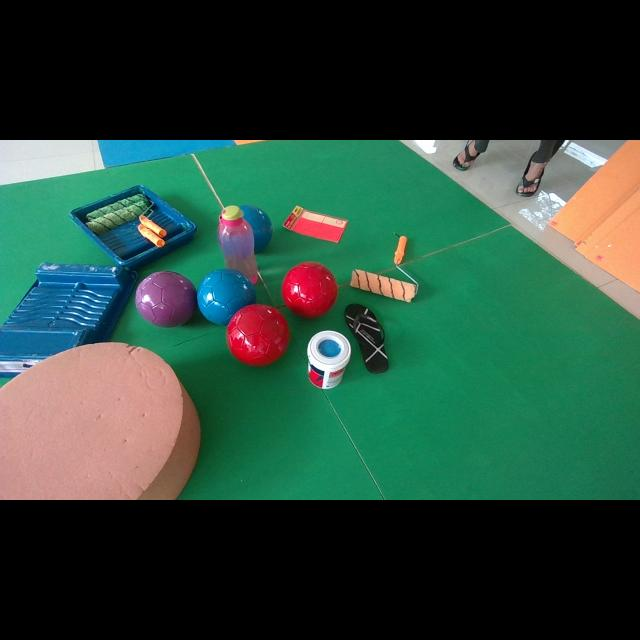B: (198, 269, 256, 325), (239, 205, 271, 252)
P: (135, 271, 196, 328)
R: (226, 304, 290, 366), (281, 261, 338, 318)
